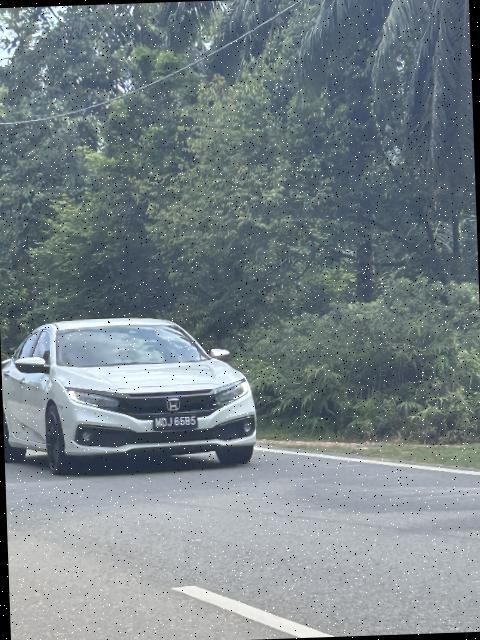License_Plate: (154, 415, 199, 432)
car: (1, 307, 258, 479)
